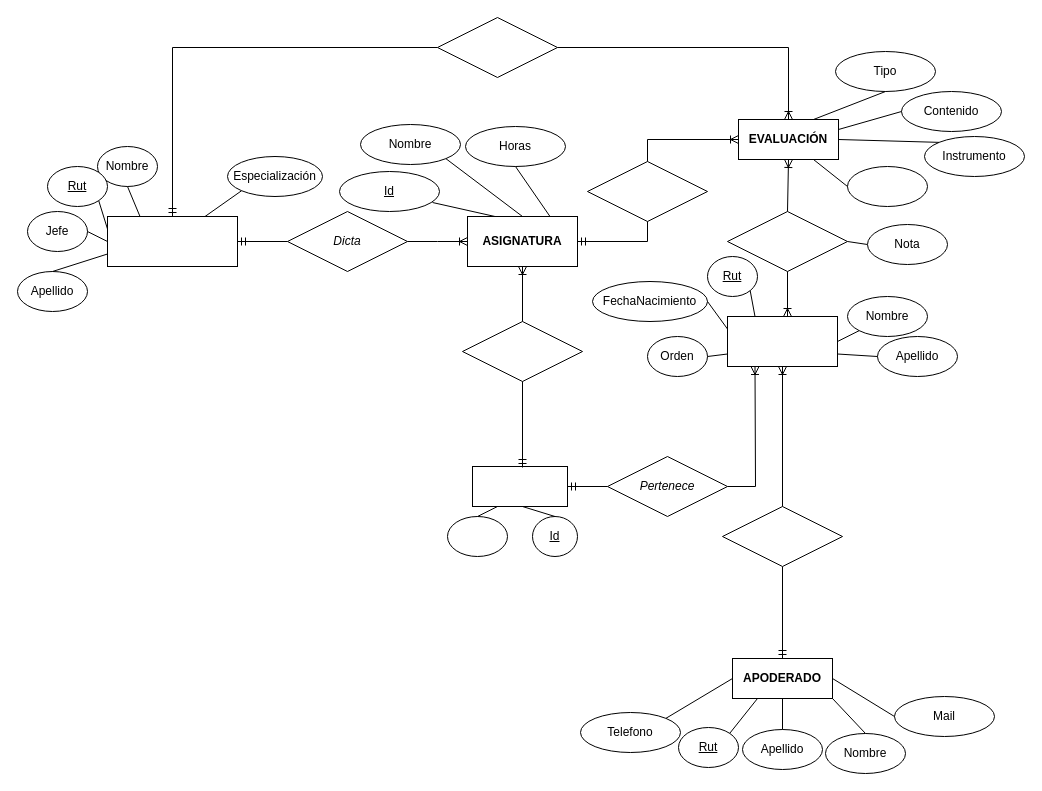
This 1042x791 diagram has some shape labels left out. Each missing label, with the box of its shape:
ALUMNO: (726, 316, 838, 366)
CURSO: (472, 466, 568, 506)
Fecha: (846, 166, 928, 206)
Grado: (446, 516, 508, 556)
Hace: (436, 16, 558, 78)
Posee: (462, 320, 582, 382)
PROFESOR: (106, 216, 238, 266)
Realiza: (586, 160, 708, 222)
Rinde: (726, 210, 848, 272)
Tiene: (722, 506, 842, 566)
